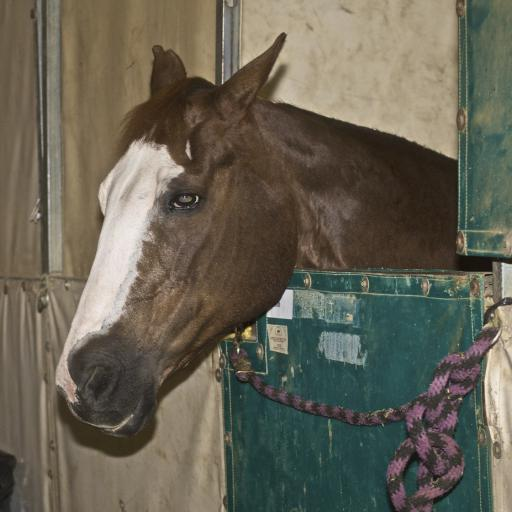horse: (52, 31, 489, 440)
